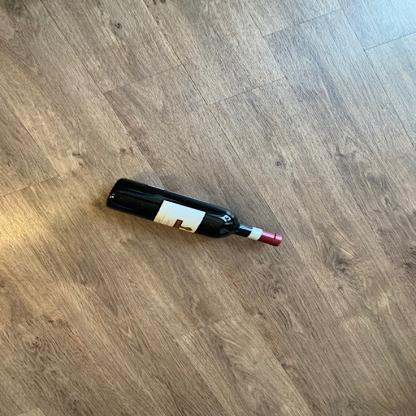trash: (104, 179, 286, 249)
